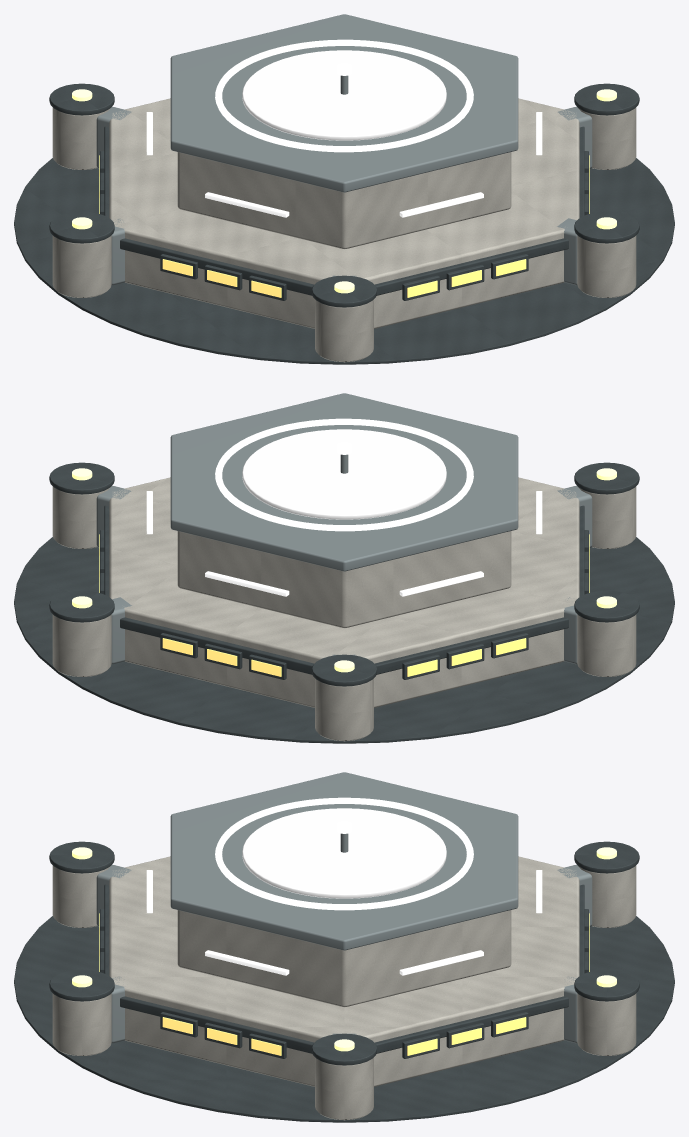
File: crown-bastion.f19dc88ed239.glb
3 views of the same model, one above another, from view 1: azimuth 30°, elevation 25°; view 2: azimuth 150°, elevation 25°; view 3: azimuth 270°, elevation 25° (orthographic).
Parts seen in each view (by area): view 1: MF_Roof_Crown__structure_ivory_ceramic, MF_Roof_Crown__structure_graphite_joints, MF_Roof_Crown__brushed_titanium, MF_Roof_Crown__identity_roof_inset, MF_Roof_Crown__identity_roof_ring, MF_Roof_Crown__practical_warm_window_glass, MF_Roof_Crown__identity_trim, MF_Roof_Crown__practical_station_marker; view 2: MF_Roof_Crown__structure_ivory_ceramic, MF_Roof_Crown__structure_graphite_joints, MF_Roof_Crown__brushed_titanium, MF_Roof_Crown__identity_roof_inset, MF_Roof_Crown__identity_roof_ring, MF_Roof_Crown__practical_warm_window_glass, MF_Roof_Crown__identity_trim, MF_Roof_Crown__practical_station_marker; view 3: MF_Roof_Crown__structure_ivory_ceramic, MF_Roof_Crown__structure_graphite_joints, MF_Roof_Crown__brushed_titanium, MF_Roof_Crown__identity_roof_inset, MF_Roof_Crown__identity_roof_ring, MF_Roof_Crown__practical_warm_window_glass, MF_Roof_Crown__identity_trim, MF_Roof_Crown__practical_station_marker.
Part boxes in pixels (box(x1,y1,x2,y2)): MF_Roof_Crown__structure_ivory_ceramic: box(52, 98, 636, 362); MF_Roof_Crown__structure_graphite_joints: box(14, 83, 674, 364); MF_Roof_Crown__brushed_titanium: box(96, 14, 592, 285); MF_Roof_Crown__identity_roof_inset: box(242, 50, 446, 140); MF_Roof_Crown__identity_roof_ring: box(215, 39, 473, 152); MF_Roof_Crown__practical_warm_window_glass: box(99, 155, 589, 297); MF_Roof_Crown__identity_trim: box(146, 112, 542, 217); MF_Roof_Crown__practical_station_marker: box(72, 89, 616, 293); MF_Roof_Crown__structure_ivory_ceramic: box(52, 477, 636, 741); MF_Roof_Crown__structure_graphite_joints: box(14, 462, 674, 743); MF_Roof_Crown__brushed_titanium: box(96, 393, 592, 664); MF_Roof_Crown__identity_roof_inset: box(242, 429, 446, 519); MF_Roof_Crown__identity_roof_ring: box(215, 418, 473, 531); MF_Roof_Crown__practical_warm_window_glass: box(99, 534, 589, 676); MF_Roof_Crown__identity_trim: box(146, 491, 542, 596); MF_Roof_Crown__practical_station_marker: box(72, 468, 616, 672); MF_Roof_Crown__structure_ivory_ceramic: box(52, 856, 636, 1120); MF_Roof_Crown__structure_graphite_joints: box(14, 841, 674, 1122); MF_Roof_Crown__brushed_titanium: box(96, 772, 592, 1043); MF_Roof_Crown__identity_roof_inset: box(242, 808, 446, 898); MF_Roof_Crown__identity_roof_ring: box(215, 797, 473, 910); MF_Roof_Crown__practical_warm_window_glass: box(99, 913, 589, 1055); MF_Roof_Crown__identity_trim: box(146, 870, 542, 975); MF_Roof_Crown__practical_station_marker: box(72, 847, 616, 1051).
Bounding box in the file's own units: 17.06 × 4.46 × 16.8.
Materials: 9 (2 with a texture image).
